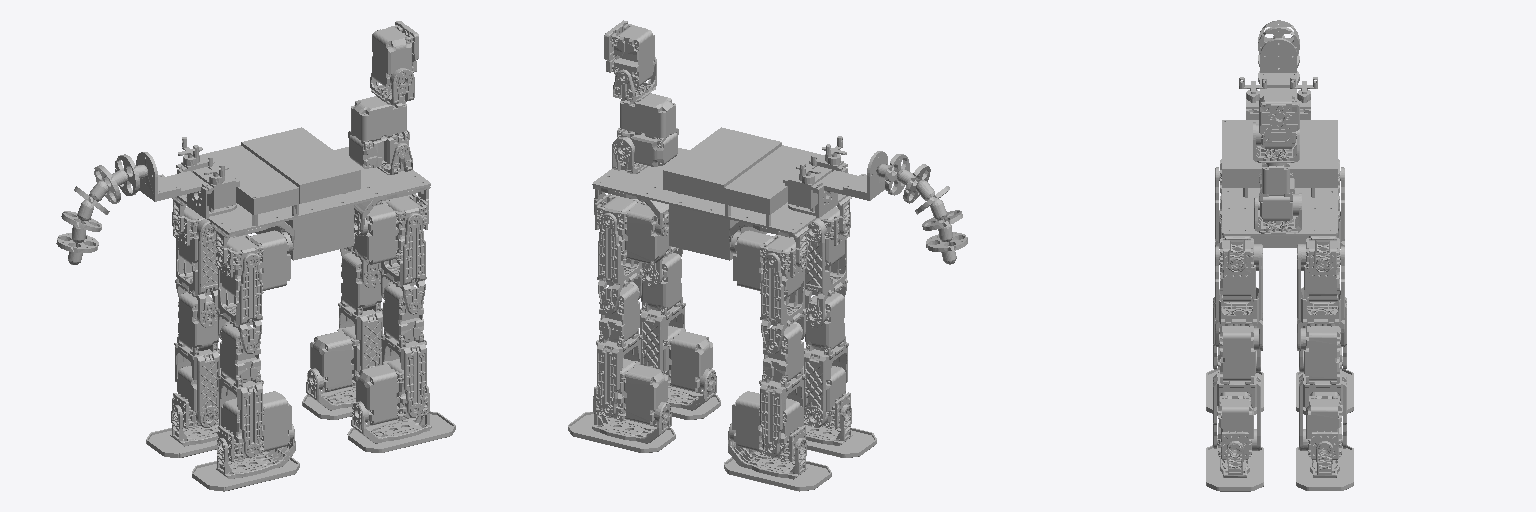
--- Facts derived from the render (not from the file) ---
Views: 3 orthographic renders of the robot side by side, from view 1: azimuth 30°, elevation 25°; view 2: azimuth 150°, elevation 25°; view 3: azimuth 270°, elevation 25°.
Robot: sweetie_bot_proto2 — 27 links, 26 joints (24 revolute, 2 fixed); root link base_link; default pose: every joint at zero.
Visible links, largest first — view 1: base_link, bone43, bone33, bone23, bone51, bone13, bone45, bone21, bone41, bone25, bone24, bone44 (+11 smaller); view 2: base_link, bone33, bone13, bone43, bone51, bone23, bone35, bone11, bone31, bone15, bone14, bone34 (+11 smaller); view 3: base_link, bone23, bone13, bone25, bone15, bone53, bone14, bone24, bone51, bone12, bone22, bone11 (+2 smaller).
Link boxes in pixels (x1,y1,x2,y2): base_link: (56,127,430,266); bone43: (218,322,263,457); bone33: (174,292,219,427); bone23: (381,282,426,417); bone51: (348,93,409,168); bone13: (338,252,382,369); bone45: (192,424,299,491); bone21: (355,194,428,264); bone41: (216,230,292,298); bone25: (347,402,455,452); bone24: (356,359,429,424); bone44: (217,391,293,461); base_link: (592,127,967,266); bone33: (759,322,805,457); bone13: (596,282,641,417); bone43: (804,292,848,427); bone51: (617,93,678,166); bone23: (640,252,685,369); bone35: (724,423,831,491); bone11: (595,194,668,264); bone31: (731,230,806,298); bone15: (568,396,675,452); bone14: (594,358,667,424); bone34: (730,391,805,461); base_link: (1222,20,1337,271); bone23: (1213,326,1260,450); bone13: (1299,326,1346,450); bone25: (1206,441,1263,491); bone15: (1296,441,1353,490); bone53: (1256,93,1299,148); bone14: (1303,392,1342,459); bone24: (1217,392,1256,459); bone51: (1258,155,1298,220); bone12: (1297,244,1344,350); bone22: (1215,244,1262,350); bone11: (1301,236,1340,295).
Bounding box of the posed robot: 0.3603 × 0.1272 × 0.3612 m (x, y, z).
Meshes: 25 distinct files referenced, 24 mesh visuals loaded (24 Collada DAE); not drawn: 1 (file found but could not be loaded).

URDF robot description (sweetie_bot_proto2):
<?xml version="1.0"?>
<robot name="sweetie_bot_proto2">
  <link name="base_link">
    <inertial>
      <origin xyz="-0.0138905253241 -0.00180707327366 8.18940362861e-05" rpy="0.0 0.0 0.0"/>
      <mass value="0.971931208405"/>
      <inertia ixx="0.00107358081614" ixy="0.00039355236889" ixz="8.3645206281e-06" iyy="0.00359809561149" iyz="-2.30307474917e-06" izz="0.00335012984396"/>
    </inertial>
    <visual>
      <origin xyz="0.0 0.0 0.0" rpy="0.0 0.0 0.0"/>
      <geometry>
        <mesh filename="package://sweetie_bot_proto2_description/meshes/base_link.DAE"/>
      </geometry>
      <material name="">
        <color rgba="0.752941176471 0.752941176471 0.752941176471 1.0"/>
      </material>
    </visual>
    <collision>
      <origin xyz="0.0 0.0 0.0" rpy="0.0 0.0 0.0"/>
      <geometry>
        <mesh filename="package://sweetie_bot_proto2_description/meshes/collision/base_link.STL"/>
      </geometry>
    </collision>
  </link>
  <link name="bone11">
    <inertial>
      <origin xyz="-0.0131503498523 -0.000726513653317 -0.0123397056768" rpy="0.0 0.0 0.0"/>
      <mass value="0.105587079651"/>
      <inertia ixx="2.35646435059e-05" ixy="1.00872737015e-06" ixz="-8.73535975042e-07" iyy="4.54760318745e-05" iyz="3.82961621381e-08" izz="3.46439811584e-05"/>
    </inertial>
    <visual>
      <origin xyz="0.0 0.0 0.0" rpy="0.0 0.0 0.0"/>
      <geometry>
        <mesh filename="package://sweetie_bot_proto2_description/meshes/bone11.DAE"/>
      </geometry>
      <material name="">
        <color rgba="0.752941176471 0.752941176471 0.752941176471 1.0"/>
      </material>
    </visual>
    <collision>
      <origin xyz="0.0 0.0 0.0" rpy="0.0 0.0 0.0"/>
      <geometry>
        <mesh filename="package://sweetie_bot_proto2_description/meshes/collision/bone11.STL"/>
      </geometry>
    </collision>
  </link>
  <joint name="joint11" type="revolute">
    <origin xyz="0.080425 0.037 -0.0275" rpy="3.7797374822e-14 -3.4914813431e-15 -4.81230658754e-15"/>
    <axis xyz="-1.0 0.0 0.0"/>
    <parent link="base_link"/>
    <child link="bone11"/>
    <limit effort="0.24" lower="-1.5708" upper="1.5708" velocity="1.5708"/>
  </joint>
  <link name="bone12">
    <inertial>
      <origin xyz="-3.00388784402e-07 -0.00227925246986 -0.0462490701207" rpy="0.0 0.0 0.0"/>
      <mass value="0.0185022042823"/>
      <inertia ixx="1.3783037807e-05" ixy="-3.30013250382e-10" ixz="-6.20565499694e-10" iyy="9.89722431632e-06" iyz="3.69591882948e-08" izz="5.66311332365e-06"/>
    </inertial>
    <visual>
      <origin xyz="0.0 0.0 0.0" rpy="0.0 0.0 0.0"/>
      <geometry>
        <mesh filename="package://sweetie_bot_proto2_description/meshes/bone12.DAE"/>
      </geometry>
      <material name="">
        <color rgba="0.752941176471 0.752941176471 0.752941176471 1.0"/>
      </material>
    </visual>
    <collision>
      <origin xyz="0.0 0.0 0.0" rpy="0.0 0.0 0.0"/>
      <geometry>
        <mesh filename="package://sweetie_bot_proto2_description/meshes/collision/bone12.STL"/>
      </geometry>
    </collision>
  </link>
  <joint name="joint12" type="revolute">
    <origin xyz="0.0 0.0 0.0" rpy="0.0 -3.54776255454e-31 0.0"/>
    <axis xyz="0.0 -1.0 0.0"/>
    <parent link="bone11"/>
    <child link="bone12"/>
    <limit effort="0.24" lower="-1.5708" upper="1.5708" velocity="1.5708"/>
  </joint>
  <link name="bone13">
    <inertial>
      <origin xyz="8.02423274771e-08 -0.00132693444789 -0.0222795353563" rpy="0.0 0.0 0.0"/>
      <mass value="0.0651096345569"/>
      <inertia ixx="4.28023192969e-05" ixy="3.22165726907e-10" ixz="-4.62109403824e-10" iyy="3.8488306844e-05" iyz="3.52704403401e-07" izz="1.03869118902e-05"/>
    </inertial>
    <visual>
      <origin xyz="0.0 0.0 0.0" rpy="0.0 0.0 0.0"/>
      <geometry>
        <mesh filename="package://sweetie_bot_proto2_description/meshes/bone13.DAE"/>
      </geometry>
      <material name="">
        <color rgba="0.752941176471 0.752941176471 0.752941176471 1.0"/>
      </material>
    </visual>
    <collision>
      <origin xyz="0.0 0.0 0.0" rpy="0.0 0.0 0.0"/>
      <geometry>
        <mesh filename="package://sweetie_bot_proto2_description/meshes/collision/bone13.STL"/>
      </geometry>
    </collision>
  </link>
  <joint name="joint13" type="revolute">
    <origin xyz="0.0 0.0 -0.08" rpy="-3.16413562018e-15 3.4914813431e-15 4.81230658754e-15"/>
    <axis xyz="0.0 -1.0 0.0"/>
    <parent link="bone12"/>
    <child link="bone13"/>
    <limit effort="0.24" lower="-1.9" upper="1.9" velocity="1.5708"/>
  </joint>
  <link name="bone14">
    <inertial>
      <origin xyz="-0.0131503499542 -0.000726571124869 0.0123397056981" rpy="0.0 0.0 0.0"/>
      <mass value="0.105587079787"/>
      <inertia ixx="2.35646347426e-05" ixy="1.00889107706e-06" ixz="8.73536154319e-07" iyy="4.54760316078e-05" iyz="-3.84172291161e-08" izz="3.46439720497e-05"/>
    </inertial>
    <visual>
      <origin xyz="0.0 0.0 0.0" rpy="0.0 0.0 0.0"/>
      <geometry>
        <mesh filename="package://sweetie_bot_proto2_description/meshes/bone14.DAE"/>
      </geometry>
      <material name="">
        <color rgba="0.752941176471 0.752941176471 0.752941176471 1.0"/>
      </material>
    </visual>
    <collision>
      <origin xyz="0.0 0.0 0.0" rpy="0.0 0.0 0.0"/>
      <geometry>
        <mesh filename="package://sweetie_bot_proto2_description/meshes/collision/bone14.STL"/>
      </geometry>
    </collision>
  </link>
  <joint name="joint14" type="revolute">
    <origin xyz="0.0 0.0016 -0.09605" rpy="-3.88578058619e-16 6.93889390398e-18 2.17881268583e-15"/>
    <axis xyz="0.0 -1.0 0.0"/>
    <parent link="bone13"/>
    <child link="bone14"/>
    <limit effort="0.24" lower="-1.5708" upper="1.5708" velocity="1.5708"/>
  </joint>
  <link name="bone15">
    <inertial>
      <origin xyz="-0.00654545442537 1.78611357569e-06 -0.0251989397617" rpy="0.0 0.0 0.0"/>
      <mass value="0.0234095309231"/>
      <inertia ixx="4.87157620445e-06" ixy="-4.51832383148e-10" ixz="5.25179469847e-07" iyy="1.68339968626e-05" iyz="-4.43541974088e-11" izz="1.93251783586e-05"/>
    </inertial>
    <visual>
      <origin xyz="0.0 0.0 0.0" rpy="0.0 0.0 0.0"/>
      <geometry>
        <mesh filename="package://sweetie_bot_proto2_description/meshes/bone15.DAE"/>
      </geometry>
      <material name="">
        <color rgba="0.752941176471 0.752941176471 0.752941176471 1.0"/>
      </material>
    </visual>
    <collision>
      <origin xyz="0.0 0.0 0.0" rpy="0.0 0.0 0.0"/>
      <geometry>
        <mesh filename="package://sweetie_bot_proto2_description/meshes/collision/bone15.STL"/>
      </geometry>
    </collision>
  </link>
  <joint name="joint15" type="revolute">
    <origin xyz="0.0 0.0 0.0" rpy="0.0 -1.12103877146e-44 0.0"/>
    <axis xyz="-1.0 0.0 0.0"/>
    <parent link="bone14"/>
    <child link="bone15"/>
    <limit effort="0.24" lower="-1.5708" upper="1.5708" velocity="1.5708"/>
  </joint>
  <link name="bone21">
    <inertial>
      <origin xyz="-0.0131492758508 0.000726571123886 -0.0123397056768" rpy="0.0 0.0 0.0"/>
      <mass value="0.105587079651"/>
      <inertia ixx="2.35646347031e-05" ixy="-1.00880882812e-06" ixz="-8.74687030149e-07" iyy="4.54825143369e-05" iyz="-3.84172310525e-08" izz="3.46504548181e-05"/>
    </inertial>
    <visual>
      <origin xyz="0.0 0.0 0.0" rpy="0.0 0.0 0.0"/>
      <geometry>
        <mesh filename="package://sweetie_bot_proto2_description/meshes/bone21.DAE"/>
      </geometry>
      <material name="">
        <color rgba="0.752941176471 0.752941176471 0.752941176471 1.0"/>
      </material>
    </visual>
    <collision>
      <origin xyz="0.0 0.0 0.0" rpy="0.0 0.0 0.0"/>
      <geometry>
        <mesh filename="package://sweetie_bot_proto2_description/meshes/collision/bone21.STL"/>
      </geometry>
    </collision>
  </link>
  <joint name="joint21" type="revolute">
    <origin xyz="0.080425 -0.037 -0.0275" rpy="3.54699451234e-15 4.38428390321e-16 -1.54361546163e-14"/>
    <axis xyz="-1.0 0.0 0.0"/>
    <parent link="base_link"/>
    <child link="bone21"/>
    <limit effort="0.24" lower="-1.5708" upper="1.5708" velocity="1.5708"/>
  </joint>
  <link name="bone22">
    <inertial>
      <origin xyz="3.00388784236e-07 0.00227925246986 -0.0462490701207" rpy="0.0 0.0 0.0"/>
      <mass value="0.0185022042823"/>
      <inertia ixx="1.3783037807e-05" ixy="-3.30013250328e-10" ixz="6.20565499657e-10" iyy="9.89722431632e-06" iyz="-3.69591882948e-08" izz="5.66311332365e-06"/>
    </inertial>
    <visual>
      <origin xyz="0.0 0.0 0.0" rpy="0.0 0.0 0.0"/>
      <geometry>
        <mesh filename="package://sweetie_bot_proto2_description/meshes/bone22.DAE"/>
      </geometry>
      <material name="">
        <color rgba="0.752941176471 0.752941176471 0.752941176471 1.0"/>
      </material>
    </visual>
    <collision>
      <origin xyz="0.0 0.0 0.0" rpy="0.0 0.0 0.0"/>
      <geometry>
        <mesh filename="package://sweetie_bot_proto2_description/meshes/collision/bone22.STL"/>
      </geometry>
    </collision>
  </link>
  <joint name="joint22" type="revolute">
    <origin xyz="0.0 0.0 0.0" rpy="0.0 1.6185064457e-32 0.0"/>
    <axis xyz="0.0 -1.0 0.0"/>
    <parent link="bone21"/>
    <child link="bone22"/>
    <limit effort="0.24" lower="-1.5708" upper="1.5708" velocity="1.5708"/>
  </joint>
  <link name="bone23">
    <inertial>
      <origin xyz="-8.0238840558e-08 0.00132693442083 -0.0222795353719" rpy="0.0 0.0 0.0"/>
      <mass value="0.0651096347113"/>
      <inertia ixx="4.28023193276e-05" ixy="3.22168480627e-10" ixz="4.62111154546e-10" iyy="3.84883068536e-05" iyz="-3.52704417056e-07" izz="1.0386911912e-05"/>
    </inertial>
    <visual>
      <origin xyz="0.0 0.0 0.0" rpy="0.0 0.0 0.0"/>
      <geometry>
        <mesh filename="package://sweetie_bot_proto2_description/meshes/bone23.DAE"/>
      </geometry>
      <material name="">
        <color rgba="0.752941176471 0.752941176471 0.752941176471 1.0"/>
      </material>
    </visual>
    <collision>
      <origin xyz="0.0 0.0 0.0" rpy="0.0 0.0 0.0"/>
      <geometry>
        <mesh filename="package://sweetie_bot_proto2_description/meshes/collision/bone23.STL"/>
      </geometry>
    </collision>
  </link>
  <joint name="joint23" type="revolute">
    <origin xyz="0.0 0.0 -0.08" rpy="-7.77156117238e-15 -4.38428390321e-16 1.54361546163e-14"/>
    <axis xyz="0.0 -1.0 0.0"/>
    <parent link="bone22"/>
    <child link="bone23"/>
    <limit effort="0.24" lower="-1.9" upper="1.9" velocity="1.5708"/>
  </joint>
  <link name="bone24">
    <inertial>
      <origin xyz="-0.013149275738 0.000726513639348 0.0123397056981" rpy="0.0 0.0 0.0"/>
      <mass value="0.105587079787"/>
      <inertia ixx="2.35646435624e-05" ixy="-1.00864480641e-06" ixz="8.74686830252e-07" iyy="4.54825147033e-05" iyz="3.82961882936e-08" izz="3.4650463965e-05"/>
    </inertial>
    <visual>
      <origin xyz="0.0 0.0 0.0" rpy="0.0 0.0 0.0"/>
      <geometry>
        <mesh filename="package://sweetie_bot_proto2_description/meshes/bone24.DAE"/>
      </geometry>
      <material name="">
        <color rgba="0.752941176471 0.752941176471 0.752941176471 1.0"/>
      </material>
    </visual>
    <collision>
      <origin xyz="0.0 0.0 0.0" rpy="0.0 0.0 0.0"/>
      <geometry>
        <mesh filename="package://sweetie_bot_proto2_description/meshes/collision/bone24.STL"/>
      </geometry>
    </collision>
  </link>
  <joint name="joint24" type="revolute">
    <origin xyz="0.0 -0.0016 -0.09605" rpy="-6.38378239159e-15 4.4408920985e-16 -7.77156117238e-16"/>
    <axis xyz="0.0 -1.0 0.0"/>
    <parent link="bone23"/>
    <child link="bone24"/>
    <limit effort="0.24" lower="-1.5708" upper="1.5708" velocity="1.5708"/>
  </joint>
  <link name="bone25">
    <inertial>
      <origin xyz="-0.00655201597392 1.78621347767e-06 -0.0251989396311" rpy="0.0 0.0 0.0"/>
      <mass value="0.0234095313367"/>
      <inertia ixx="4.87157625631e-06" ixy="-4.52066602059e-10" ixz="5.29049923335e-07" iyy="1.68265249268e-05" iyz="-4.43638185685e-11" izz="1.93177064246e-05"/>
    </inertial>
    <visual>
      <origin xyz="0.0 0.0 0.0" rpy="0.0 0.0 0.0"/>
      <geometry>
        <mesh filename="package://sweetie_bot_proto2_description/meshes/bone25.DAE"/>
      </geometry>
      <material name="">
        <color rgba="0.752941176471 0.752941176471 0.752941176471 1.0"/>
      </material>
    </visual>
    <collision>
      <origin xyz="0.0 0.0 0.0" rpy="0.0 0.0 0.0"/>
      <geometry>
        <mesh filename="package://sweetie_bot_proto2_description/meshes/collision/bone25.STL"/>
      </geometry>
    </collision>
  </link>
  <joint name="joint25" type="revolute">
    <origin xyz="0.0 0.0 0.0" rpy="0.0 1.23259516441e-32 0.0"/>
    <axis xyz="-1.0 0.0 0.0"/>
    <parent link="bone24"/>
    <child link="bone25"/>
    <limit effort="0.24" lower="-1.5708" upper="1.5708" velocity="1.5708"/>
  </joint>
  <link name="bone31">
    <inertial>
      <origin xyz="0.0131492758696 -0.000726571137855 -0.0123397056556" rpy="0.0 0.0 0.0"/>
      <mass value="0.105587079515"/>
      <inertia ixx="2.35646346466e-05" ixy="-1.00880884987e-06" ixz="8.74687063234e-07" iyy="4.54825142684e-05" iyz="3.84172048974e-08" izz="3.46504547718e-05"/>
    </inertial>
    <visual>
      <origin xyz="0.0 0.0 0.0" rpy="0.0 0.0 0.0"/>
      <geometry>
        <mesh filename="package://sweetie_bot_proto2_description/meshes/bone31.DAE"/>
      </geometry>
      <material name="">
        <color rgba="0.752941176471 0.752941176471 0.752941176471 1.0"/>
      </material>
    </visual>
    <collision>
      <origin xyz="0.0 0.0 0.0" rpy="0.0 0.0 0.0"/>
      <geometry>
        <mesh filename="package://sweetie_bot_proto2_description/meshes/collision/bone31.STL"/>
      </geometry>
    </collision>
  </link>
  <joint name="joint31" type="revolute">
    <origin xyz="-0.080425 0.037 -0.0275" rpy="-3.54455505745e-15 -9.51716093093e-30 -6.52476541856e-14"/>
    <axis xyz="-1.0 0.0 0.0"/>
    <parent link="base_link"/>
    <child link="bone31"/>
    <limit effort="0.24" lower="-1.5708" upper="1.5708" velocity="1.5708"/>
  </joint>
  <link name="bone32">
    <inertial>
      <origin xyz="-3.00388783764e-07 -0.00227925246986 -0.0462490701207" rpy="0.0 0.0 0.0"/>
      <mass value="0.0185022042823"/>
      <inertia ixx="1.3783037807e-05" ixy="-3.30013250142e-10" ixz="-6.20565499675e-10" iyy="9.89722431632e-06" iyz="3.69591882948e-08" izz="5.66311332365e-06"/>
    </inertial>
    <visual>
      <origin xyz="0.0 0.0 0.0" rpy="0.0 0.0 0.0"/>
      <geometry>
        <mesh filename="package://sweetie_bot_proto2_description/meshes/bone32.DAE"/>
      </geometry>
      <material name="">
        <color rgba="0.752941176471 0.752941176471 0.752941176471 1.0"/>
      </material>
    </visual>
    <collision>
      <origin xyz="0.0 0.0 0.0" rpy="0.0 0.0 0.0"/>
      <geometry>
        <mesh filename="package://sweetie_bot_proto2_description/meshes/collision/bone32.STL"/>
      </geometry>
    </collision>
  </link>
  <joint name="joint32" type="revolute">
    <origin xyz="0.0 0.0 0.0" rpy="0.0 0.0 0.0"/>
    <axis xyz="0.0 -1.0 0.0"/>
    <parent link="bone31"/>
    <child link="bone32"/>
    <limit effort="0.24" lower="-1.5708" upper="1.5708" velocity="1.5708"/>
  </joint>
  <link name="bone33">
    <inertial>
      <origin xyz="8.02423283791e-08 -0.0013269344479 -0.0222795353563" rpy="0.0 0.0 0.0"/>
      <mass value="0.0651096345569"/>
      <inertia ixx="4.28023192969e-05" ixy="3.22165726877e-10" ixz="-4.62109403858e-10" iyy="3.8488306844e-05" iyz="3.52704403401e-07" izz="1.03869118902e-05"/>
    </inertial>
    <visual>
      <origin xyz="0.0 0.0 0.0" rpy="0.0 0.0 0.0"/>
      <geometry>
        <mesh filename="package://sweetie_bot_proto2_description/meshes/bone33.DAE"/>
      </geometry>
      <material name="">
        <color rgba="0.752941176471 0.752941176471 0.752941176471 1.0"/>
      </material>
    </visual>
    <collision>
      <origin xyz="0.0 0.0 0.0" rpy="0.0 0.0 0.0"/>
      <geometry>
        <mesh filename="package://sweetie_bot_proto2_description/meshes/collision/bone33.STL"/>
      </geometry>
    </collision>
  </link>
  <joint name="joint33" type="revolute">
    <origin xyz="0.0 0.0 -0.08" rpy="-6.80011602583e-16 -2.217567417e-28 6.52476541856e-14"/>
    <axis xyz="0.0 -1.0 0.0"/>
    <parent link="bone32"/>
    <child link="bone33"/>
    <limit effort="0.24" lower="-1.9" upper="1.9" velocity="1.5708"/>
  </joint>
  <link name="bone34">
    <inertial>
      <origin xyz="0.013149275738 -0.000726513639348 0.0123397056981" rpy="0.0 0.0 0.0"/>
      <mass value="0.105587079787"/>
      <inertia ixx="2.35646435624e-05" ixy="-1.00864480641e-06" ixz="-8.74686830253e-07" iyy="4.54825147033e-05" iyz="-3.82961882936e-08" izz="3.4650463965e-05"/>
    </inertial>
    <visual>
      <origin xyz="0.0 0.0 0.0" rpy="0.0 0.0 0.0"/>
      <geometry>
        <mesh filename="package://sweetie_bot_proto2_description/meshes/bone34.DAE"/>
      </geometry>
      <material name="">
        <color rgba="0.752941176471 0.752941176471 0.752941176471 1.0"/>
      </material>
    </visual>
    <collision>
      <origin xyz="0.0 0.0 0.0" rpy="0.0 0.0 0.0"/>
      <geometry>
        <mesh filename="package://sweetie_bot_proto2_description/meshes/collision/bone34.STL"/>
      </geometry>
    </collision>
  </link>
  <joint name="joint34" type="revolute">
    <origin xyz="0.0 0.0016 -0.09605" rpy="7.88258347484e-15 -9.15933995316e-15 2.39154391688e-17"/>
    <axis xyz="0.0 -1.0 0.0"/>
    <parent link="bone33"/>
    <child link="bone34"/>
    <limit effort="0.24" lower="-1.5708" upper="1.5708" velocity="1.5708"/>
  </joint>
  <link name="bone35">
    <inertial>
      <origin xyz="0.00655201574471 -1.78612912996e-06 -0.0251989396957" rpy="0.0 0.0 0.0"/>
      <mass value="0.0234095310833"/>
      <inertia ixx="4.87157622862e-06" ixy="-4.52100673042e-10" ixz="-5.29049893178e-07" iyy="1.68265247952e-05" iyz="4.43548246901e-11" izz="1.93177062886e-05"/>
    </inertial>
    <visual>
      <origin xyz="0.0 0.0 0.0" rpy="0.0 0.0 0.0"/>
      <geometry>
        <mesh filename="package://sweetie_bot_proto2_description/meshes/bone35.DAE"/>
      </geometry>
      <material name="">
        <color rgba="0.752941176471 0.752941176471 0.752941176471 1.0"/>
      </material>
    </visual>
    <collision>
      <origin xyz="0.0 0.0 0.0" rpy="0.0 0.0 0.0"/>
      <geometry>
        <mesh filename="package://sweetie_bot_proto2_description/meshes/collision/bone35.STL"/>
      </geometry>
    </collision>
  </link>
  <joint name="joint35" type="revolute">
    <origin xyz="0.0 0.0 0.0" rpy="0.0 8.89474285511e-32 0.0"/>
    <axis xyz="-1.0 0.0 0.0"/>
    <parent link="bone34"/>
    <child link="bone35"/>
    <limit effort="0.24" lower="-1.5708" upper="1.5708" velocity="1.5708"/>
  </joint>
  <link name="bone41">
    <inertial>
      <origin xyz="0.0131503498359 0.00072651364028 -0.012339705691" rpy="0.0 0.0 0.0"/>
      <mass value="0.105587079742"/>
      <inertia ixx="2.3564643549e-05" ixy="1.00872735284e-06" ixz="8.73535947214e-07" iyy="4.54760319183e-05" iyz="-3.82961865959e-08" izz="3.4643981193e-05"/>
    </inertial>
    <visual>
      <origin xyz="0.0 0.0 0.0" rpy="0.0 0.0 0.0"/>
      <geometry>
        <mesh filename="package://sweetie_bot_proto2_description/meshes/bone41.DAE"/>
      </geometry>
      <material name="">
        <color rgba="0.752941176471 0.752941176471 0.752941176471 1.0"/>
      </material>
    </visual>
    <collision>
      <origin xyz="0.0 0.0 0.0" rpy="0.0 0.0 0.0"/>
      <geometry>
        <mesh filename="package://sweetie_bot_proto2_description/meshes/collision/bone41.STL"/>
      </geometry>
    </collision>
  </link>
  <joint name="joint41" type="revolute">
    <origin xyz="-0.080425 -0.037 -0.0275" rpy="-3.64169957211e-15 -5.31264912662e-17 -3.51471262493e-14"/>
    <axis xyz="-1.0 0.0 0.0"/>
    <parent link="base_link"/>
    <child link="bone41"/>
    <limit effort="0.24" lower="-1.5708" upper="1.5708" velocity="1.5708"/>
  </joint>
  <link name="bone42">
    <inertial>
      <origin xyz="3.00388784416e-07 0.00227925246986 -0.0462490701207" rpy="0.0 0.0 0.0"/>
      <mass value="0.0185022042823"/>
      <inertia ixx="1.3783037807e-05" ixy="-3.30013250401e-10" ixz="6.20565499655e-10" iyy="9.89722431632e-06" iyz="-3.69591882947e-08" izz="5.66311332365e-06"/>
    </inertial>
    <visual>
      <origin xyz="0.0 0.0 0.0" rpy="0.0 0.0 0.0"/>
      <geometry>
        <mesh filename="package://sweetie_bot_proto2_description/meshes/bone42.DAE"/>
      </geometry>
      <material name="">
        <color rgba="0.752941176471 0.752941176471 0.752941176471 1.0"/>
      </material>
    </visual>
    <collision>
      <origin xyz="0.0 0.0 0.0" rpy="0.0 0.0 0.0"/>
      <geometry>
        <mesh filename="package://sweetie_bot_proto2_description/meshes/collision/bone42.STL"/>
      </geometry>
    </collision>
  </link>
  <joint name="joint42" type="revolute">
    <origin xyz="0.0 0.0 0.0" rpy="0.0 1.40160664338e-33 0.0"/>
    <axis xyz="0.0 -1.0 0.0"/>
    <parent link="bone41"/>
    <child link="bone42"/>
    <limit effort="0.24" lower="-1.5708" upper="1.5708" velocity="1.5708"/>
  </joint>
  <link name="bone43">
    <inertial>
      <origin xyz="-8.02392172566e-08 0.00132693442399 -0.02227953537" rpy="0.0 0.0 0.0"/>
      <mass value="0.0651096346928"/>
      <inertia ixx="4.2802319324e-05" ixy="3.22168200204e-10" ixz="4.62110957161e-10" iyy="3.84883068525e-05" iyz="-3.52704415432e-07" izz="1.03869119095e-05"/>
    </inertial>
    <visual>
      <origin xyz="0.0 0.0 0.0" rpy="0.0 0.0 0.0"/>
      <geometry>
        <mesh filename="package://sweetie_bot_proto2_description/meshes/bone43.DAE"/>
      </geometry>
      <material name="">
        <color rgba="0.752941176471 0.752941176471 0.752941176471 1.0"/>
      </material>
    </visual>
    <collision>
      <origin xyz="0.0 0.0 0.0" rpy="0.0 0.0 0.0"/>
      <geometry>
        <mesh filename="package://sweetie_bot_proto2_description/meshes/collision/bone43.STL"/>
      </geometry>
    </collision>
  </link>
  <joint name="joint43" type="revolute">
    <origin xyz="0.0 0.0 -0.08" rpy="7.74380559676e-15 5.31264912661e-17 3.51471262493e-14"/>
    <axis xyz="0.0 -1.0 0.0"/>
    <parent link="bone42"/>
    <child link="bone43"/>
    <limit effort="0.24" lower="-1.9" upper="1.9" velocity="1.5708"/>
  </joint>
  <link name="bone44">
    <inertial>
      <origin xyz="0.0131503499548 0.000726571124975 0.012339705701" rpy="0.0 0.0 0.0"/>
      <mass value="0.105587079805"/>
      <inertia ixx="2.3564634748e-05" ixy="1.00889107702e-06" ixz="-8.7353615516e-07" iyy="4.54760316137e-05" iyz="3.84172288987e-08" izz="3.46439720501e-05"/>
    </inertial>
    <visual>
      <origin xyz="0.0 0.0 0.0" rpy="0.0 0.0 0.0"/>
      <geometry>
        <mesh filename="package://sweetie_bot_proto2_description/meshes/bone44.DAE"/>
      </geometry>
      <material name="">
        <color rgba="0.752941176471 0.752941176471 0.752941176471 1.0"/>
      </material>
    </visual>
    <collision>
      <origin xyz="0.0 0.0 0.0" rpy="0.0 0.0 0.0"/>
      <geometry>
        <mesh filename="package://sweetie_bot_proto2_description/meshes/collision/bone44.STL"/>
      </geometry>
    </collision>
  </link>
  <joint name="joint44" type="revolute">
    <origin xyz="0.0 -0.0016 -0.09605" rpy="-1.42386102908e-14 -8.88910258347e-17 -2.32357620616e-14"/>
    <axis xyz="0.0 -1.0 0.0"/>
    <parent link="bone43"/>
    <child link="bone44"/>
    <limit effort="0.24" lower="-1.5708" upper="1.5708" velocity="1.5708"/>
  </joint>
  <link name="bone45">
    <inertial>
      <origin xyz="0.00655201557828 -1.78626172384e-06 -0.0251989397497" rpy="0.0 0.0 0.0"/>
      <mass value="0.0234095308805"/>
      <inertia ixx="4.87157620514e-06" ixy="-4.52030532477e-10" ixz="-5.29049870292e-07" iyy="1.68265247099e-05" iyz="4.43734897267e-11" izz="1.93177061977e-05"/>
    </inertial>
    <visual>
      <origin xyz="0.0 0.0 0.0" rpy="0.0 0.0 0.0"/>
      <geometry>
        <mesh filename="package://sweetie_bot_proto2_description/meshes/bone45.DAE"/>
      </geometry>
      <material name="">
        <color rgba="0.752941176471 0.752941176471 0.752941176471 1.0"/>
      </material>
    </visual>
    <collision>
      <origin xyz="0.0 0.0 0.0" rpy="0.0 0.0 0.0"/>
      <geometry>
        <mesh filename="package://sweetie_bot_proto2_description/meshes/collision/bone45.STL"/>
      </geometry>
    </collision>
  </link>
  <joint name="joint45" type="revolute">
    <origin xyz="0.0 0.0 0.0" rpy="0.0 -1.31403502749e-34 0.0"/>
    <axis xyz="-1.0 0.0 0.0"/>
    <parent link="bone44"/>
    <child link="bone45"/>
    <limit effort="0.24" lower="-1.5708" upper="1.5708" velocity="1.5708"/>
  </joint>
  <link name="bone51">
    <inertial>
      <origin xyz="-0.0126632708335 -0.00240212881372 0.0139613179896" rpy="0.0 0.0 0.0"/>
      <mass value="0.102575796082"/>
      <inertia ixx="3.20486890845e-05" ixy="-6.31785425217e-08" ixz="-6.33404743184e-08" iyy="4.257965923e-05" iyz="1.07102148364e-06" izz="2.28360140185e-05"/>
    </inertial>
    <visual>
      <origin xyz="0.0 0.0 0.0" rpy="0.0 0.0 0.0"/>
      <geometry>
        <mesh filename="package://sweetie_bot_proto2_description/meshes/bone51.DAE"/>
      </geometry>
      <material name="">
        <color rgba="0.752941176471 0.752941176471 0.752941176471 1.0"/>
      </material>
    </visual>
    <collision>
      <origin xyz="0.0 0.0 0.0" rpy="0.0 0.0 0.0"/>
      <geometry>
        <mesh filename="package://sweetie_bot_proto2_description/meshes/collision/bone51.STL"/>
      </geometry>
    </collision>
  </link>
  <joint name="joint51" type="revolute">
    <origin xyz="0.088 0.0 0.0235" rpy="-4.57151135523e-15 0.0 0.0"/>
    <axis xyz="0.0 -1.0 0.0"/>
    <parent link="base_link"/>
    <child link="bone51"/>
    <limit effort="0.24" lower="-1.5708" upper="0.26" velocity="1.5708"/>
  </joint>
  <link name="bone52">
    <inertial>
      <origin xyz="6.28356812971e-08 -0.000533673413828 -0.0124089525843" rpy="0.0 0.0 0.0"/>
      <mass value="0.00540581700891"/>
      <inertia ixx="1.72999480803e-06" ixy="4.85872622402e-12" ixz="-7.55234636482e-12" iyy="6.96780720156e-07" iyz="8.31596189482e-08" izz="1.51783289906e-06"/>
    </inertial>
    <visual>
      <origin xyz="0.0 0.0 0.0" rpy="0.0 0.0 0.0"/>
      <geometry>
        <mesh filename="package://sweetie_bot_proto2_description/meshes/bone52.DAE"/>
      </geometry>
      <material name="">
        <color rgba="0.752941176471 0.752941176471 0.752941176471 1.0"/>
      </material>
    </visual>
    <collision>
      <origin xyz="0.0 0.0 0.0" rpy="0.0 0.0 0.0"/>
      <geometry>
        <mesh filename="package://sweetie_bot_proto2_description/meshes/collision/bone52.STL"/>
      </geometry>
    </collision>
  </link>
  <joint name="joint52" type="revolute">
    <origin xyz="0.0 -0.00314999999999 0.06705" rpy="-3.30198557404e-15 -6.86083134749e-15 3.72722466096e-14"/>
    <axis xyz="0.0 0.0 1.0"/>
    <parent link="bone51"/>
    <child link="bone52"/>
    <limit effort="0.24" lower="-1.5708" upper="1.5708" velocity="1.5708"/>
  </joint>
  <link name="bone53">
    <inertial>
      <origin xyz="0.00130801561074 0.000349582362335 0.0131913887068" rpy="0.0 0.0 0.0"/>
      <mass value="0.0556640423453"/>
      <inertia ixx="1.3269775023e-05" ixy="-2.08006622387e-07" ixz="-4.16949624092e-07" iyy="1.23844512719e-05" iyz="-1.46540737427e-07" izz="7.58579651683e-06"/>
    </inertial>
    <visual>
      <origin xyz="0.0 0.0 0.0" rpy="0.0 0.0 0.0"/>
      <geometry>
        <mesh filename="package://sweetie_bot_proto2_description/meshes/bone53.DAE"/>
      </geometry>
      <material name="">
        <color rgba="0.752941176471 0.752941176471 0.752941176471 1.0"/>
      </material>
    </visual>
    <collision>
      <origin xyz="0.0 0.0 0.0" rpy="0.0 0.0 0.0"/>
      <geometry>
        <mesh filename="package://sweetie_bot_proto2_description/meshes/collision/bone53.STL"/>
      </geometry>
    </collision>
  </link>
  <joint name="joint53" type="revolute">
    <origin xyz="0.0 0.0 0.0" rpy="-5.14406073106e-16 6.86083134749e-15 -3.72722466096e-14"/>
    <axis xyz="0.0 -1.0 0.0"/>
    <parent link="bone52"/>
    <child link="bone53"/>
    <limit effort="0.24" lower="-0.55" upper="1.0" velocity="1.5708"/>
  </joint>
  <link name="bone54">
    <inertial>
      <origin xyz="0.0428001431483 8.85586725973e-06 0.0237799254315" rpy="0.0 0.0 0.0"/>
      <mass value="0.230098004362"/>
      <inertia ixx="0.00053853140335" ixy="-1.69462600354e-07" ixz="-5.92153223065e-07" iyy="0.000608352544635" iyz="4.55806107537e-07" izz="0.000553896203156"/>
    </inertial>
    <visual>
      <origin xyz="0.0 0.0 0.0" rpy="0.0 0.0 0.0"/>
      <geometry>
        <mesh filename="package://sweetie_bot_proto2_description/meshes/bone54.DAE"/>
      </geometry>
      <material name="">
        <color rgba="0.752941176471 0.752941176471 0.752941176471 1.0"/>
      </material>
    </visual>
    <collision>
      <origin xyz="0.0 0.0 0.0" rpy="0.0 0.0 0.0"/>
      <geometry>
        <mesh filename="package://sweetie_bot_proto2_description/meshes/collision/bone54.STL"/>
      </geometry>
    </collision>
  </link>
  <joint name="joint54" type="revolute">
    <origin xyz="0.0 0.00314999999999 0.0246" rpy="2.77555756156e-14 0.0 0.0"/>
    <axis xyz="1.0 0.0 0.0"/>
    <parent link="bone53"/>
    <child link="bone54"/>
    <limit effort="0.24" lower="-0.4" upper="0.4" velocity="1.5708"/>
  </joint>
  <link name="eye_left"/>
  <joint name="eye_left" type="fixed">
    <origin xyz="0.0700895479365 0.0337909018151 0.00614838727403" rpy="-3.44033294541e-16 3.15829803493e-14 2.50910403565e-14"/>
    <axis xyz="0.0 0.0 0.0"/>
    <parent link="bone54"/>
    <child link="eye_left"/>
  </joint>
  <link name="eye_right"/>
  <joint name="eye_right" type="fixed">
    <origin xyz="0.0700889457663 -0.0337914070959 0.00614523448994" rpy="-3.69982123334e-16 3.16973967665e-14 2.50355292053e-14"/>
    <axis xyz="0.0 0.0 0.0"/>
    <parent link="bone54"/>
    <child link="eye_right"/>
  </joint>
</robot>
